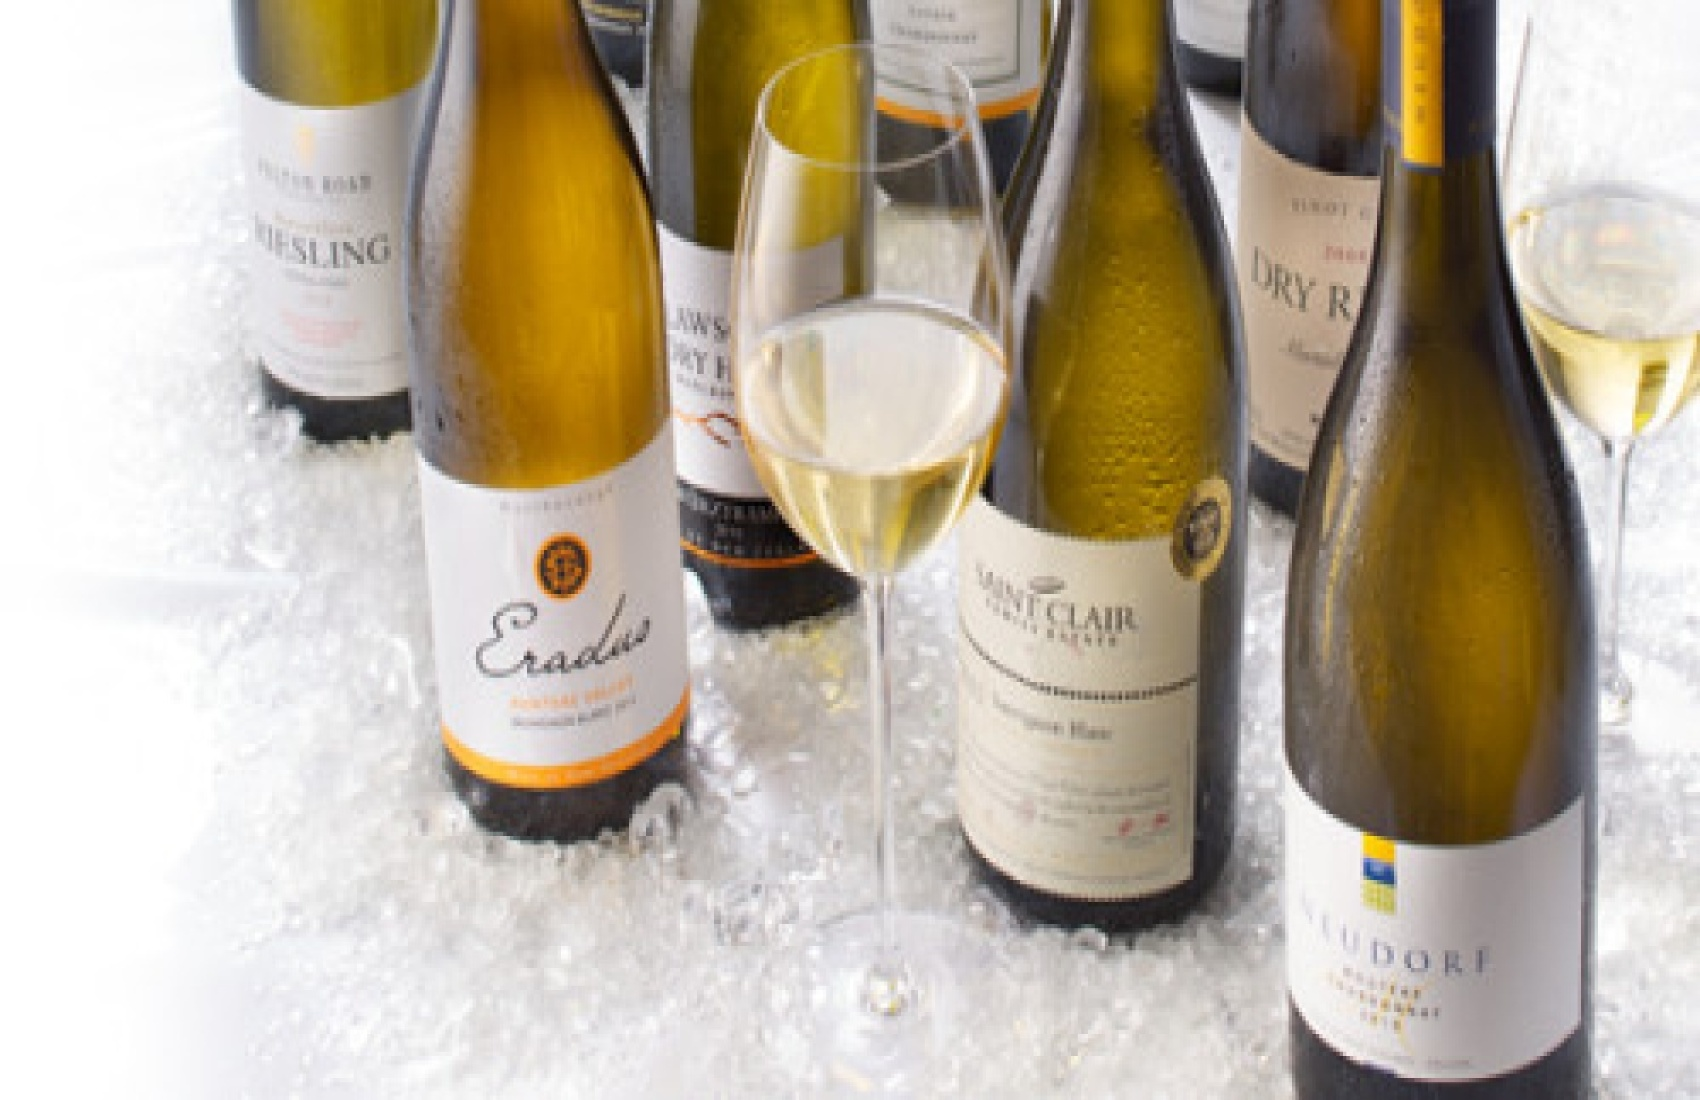wine: (1287, 40, 1595, 1100), (950, 1, 1249, 915), (408, 1, 700, 840)
